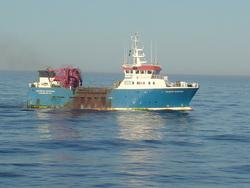Cargoship: (24, 31, 201, 115)
